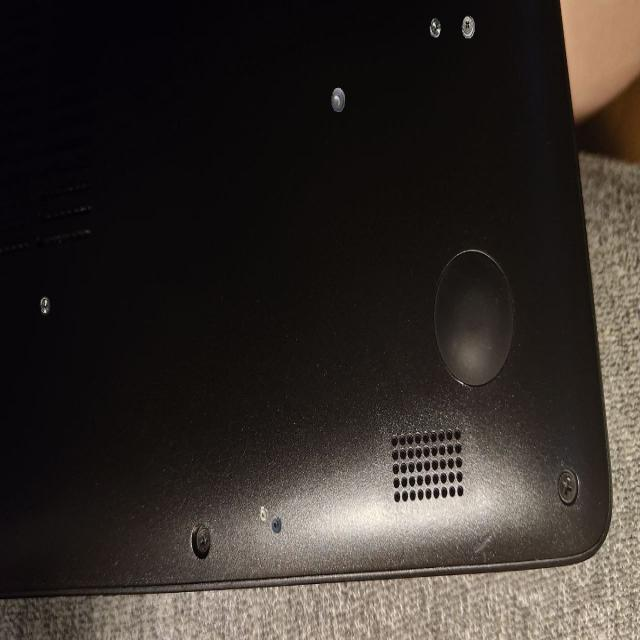lock: (462, 15, 474, 38), (430, 18, 440, 37), (40, 296, 50, 314), (258, 506, 268, 522)
missing_screw: (331, 87, 345, 112), (272, 516, 282, 533)
